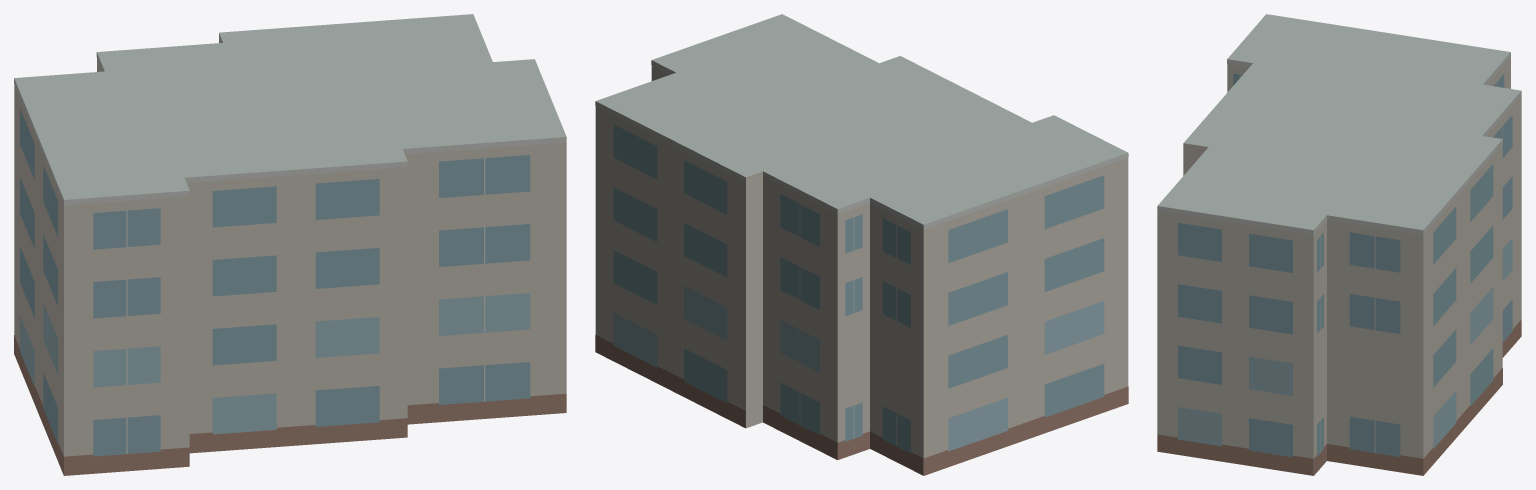
The model's file is residential-7550cf53-c82d-48d4-97b6-5f6c4f15018c.glb.
3 renders of one model, left to right at view 1: azimuth 30°, elevation 25°; view 2: azimuth 150°, elevation 25°; view 3: azimuth 270°, elevation 25°, orthographic. The views are drawn at different scales.
Parts seen in each view (by area): view 1: residential-7550cf53-c82d-48d4-97b6-5f6c4f15018c.tmp; view 2: residential-7550cf53-c82d-48d4-97b6-5f6c4f15018c.tmp; view 3: residential-7550cf53-c82d-48d4-97b6-5f6c4f15018c.tmp.
Boxes of the visible parts, x1,y1,x2,y2 form: residential-7550cf53-c82d-48d4-97b6-5f6c4f15018c.tmp: (14,14,566,475); residential-7550cf53-c82d-48d4-97b6-5f6c4f15018c.tmp: (595,14,1128,475); residential-7550cf53-c82d-48d4-97b6-5f6c4f15018c.tmp: (1157,14,1521,475).
Bounding box in the file's own units: 23.03 × 12.2 × 16.4.
